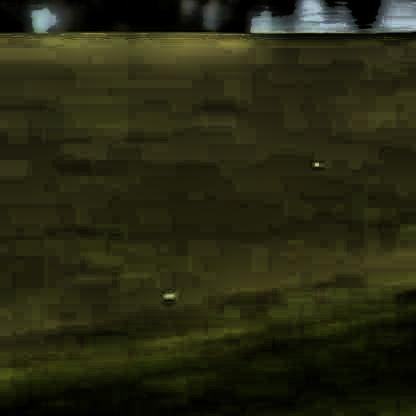golfball: (310, 158, 317, 165)
